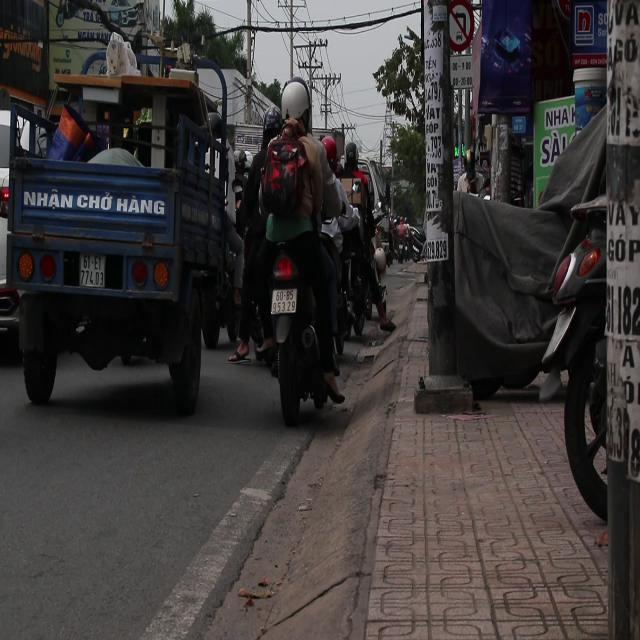motorbike: (260, 216, 349, 425)
truck: (2, 70, 220, 413)
